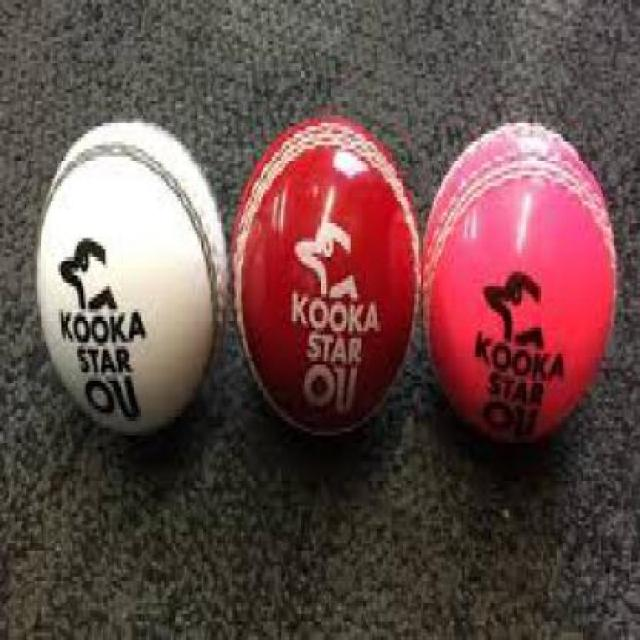ball: (16, 90, 244, 443), (418, 80, 620, 453)
